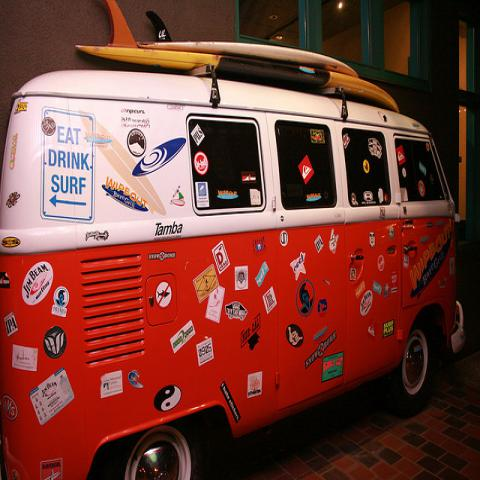bus: (0, 68, 466, 474)
